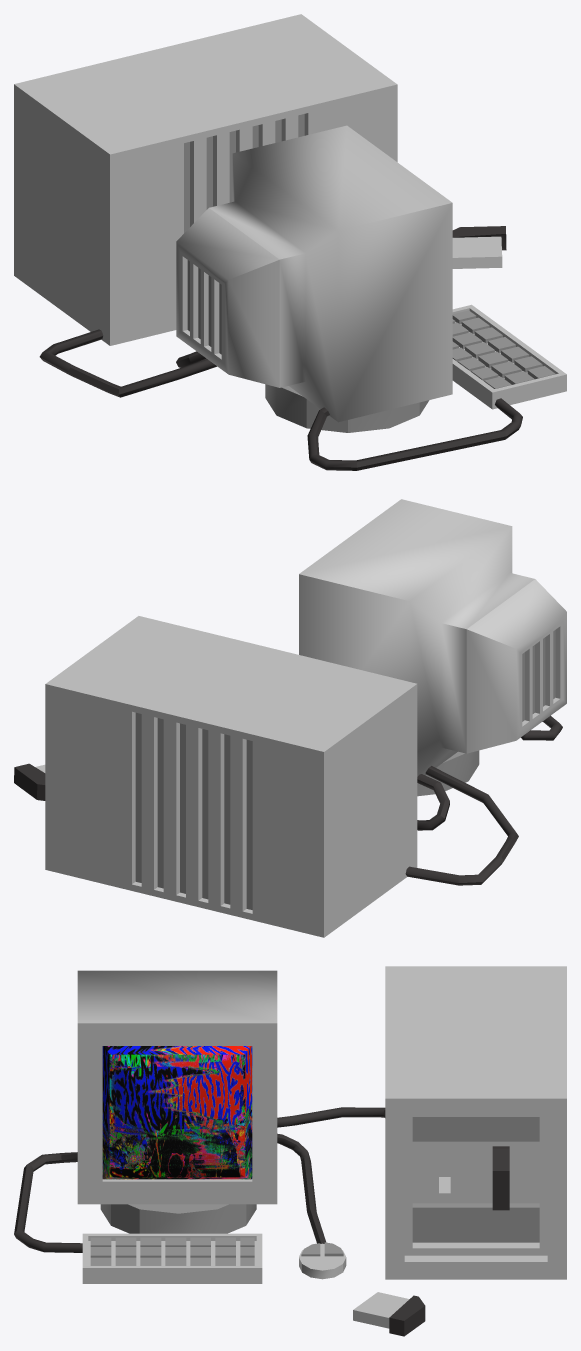
Rendered from comp.fbx.
3 renders of one model, top to bottom at view 1: azimuth 30°, elevation 25°; view 2: azimuth 150°, elevation 25°; view 3: azimuth 270°, elevation 25°, orthographic. The views are drawn at different scales.
Parts seen in each view (by area): view 1: Comp, Floppy.1; view 2: Comp, Floppy.1; view 3: Comp, Floppy.1, Floppy.2.
Part boxes in pixels (box(x1,y1,x2,y2)): Comp: box(14, 14, 566, 470); Floppy.1: box(452, 226, 506, 268); Comp: box(45, 499, 566, 937); Floppy.1: box(14, 763, 45, 800); Comp: box(14, 966, 566, 1283); Floppy.1: box(353, 1292, 425, 1336); Floppy.2: box(492, 1146, 509, 1210).
Bounding box in the file's own units: 519 × 233 × 554.
5 materials, 1 textured.
